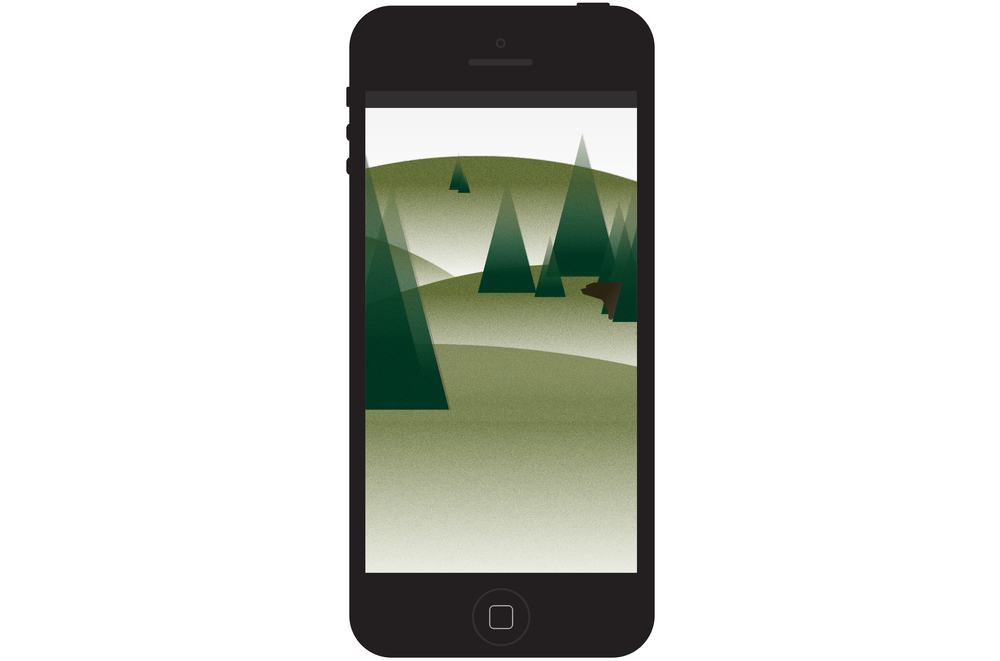phone: (325, 7, 683, 661)
